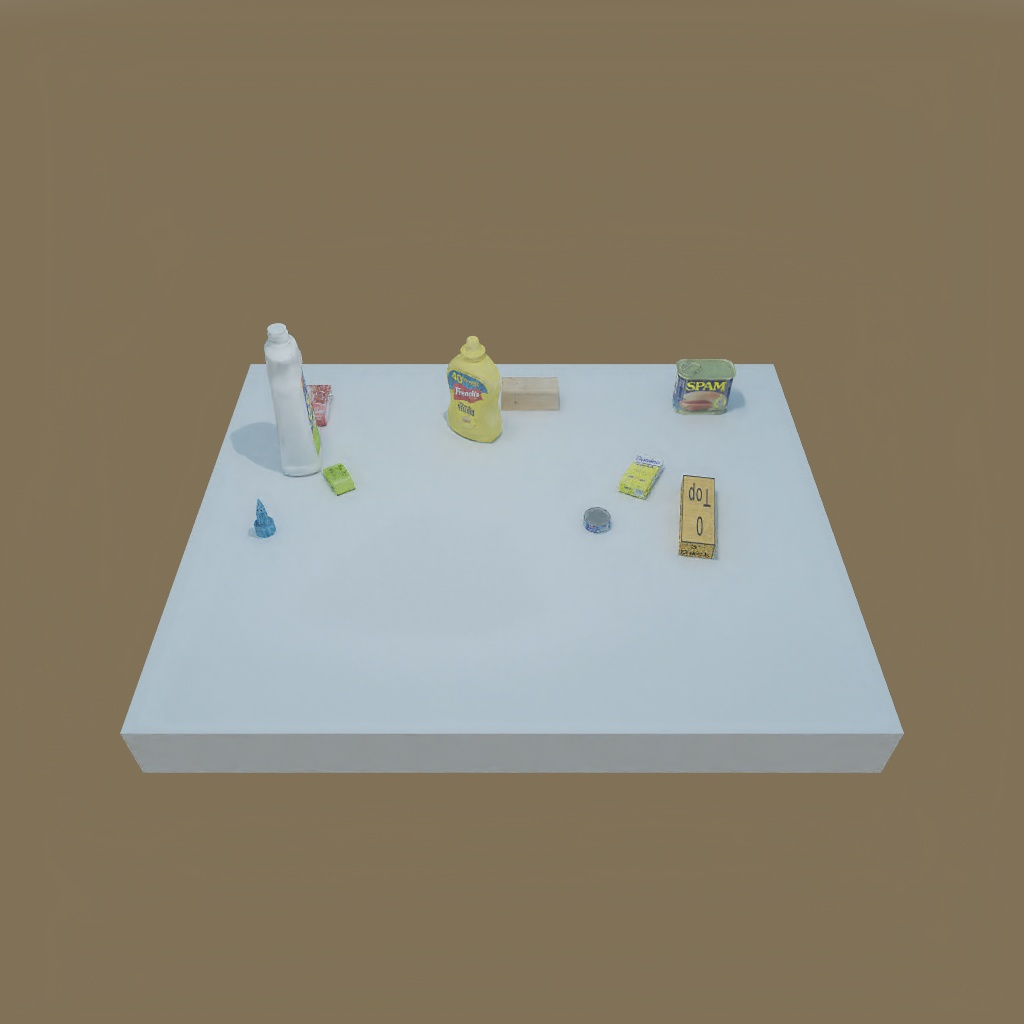gelatin_box: (305, 386, 336, 434)
jenga: (677, 471, 727, 561)
mustard_bottle: (446, 332, 502, 442)
potted_meat_can: (672, 357, 742, 413)
wood_block: (491, 375, 563, 416)
